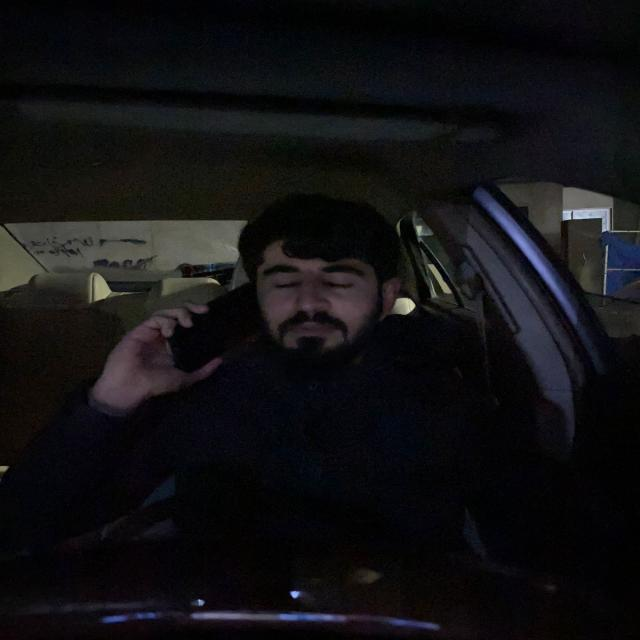mobile: (166, 287, 246, 379)
person: (240, 208, 412, 376)
